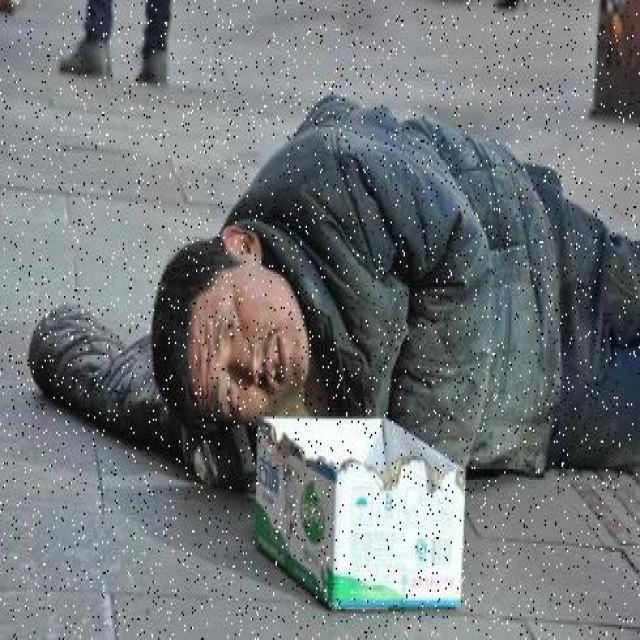fall: (170, 102, 638, 438)
